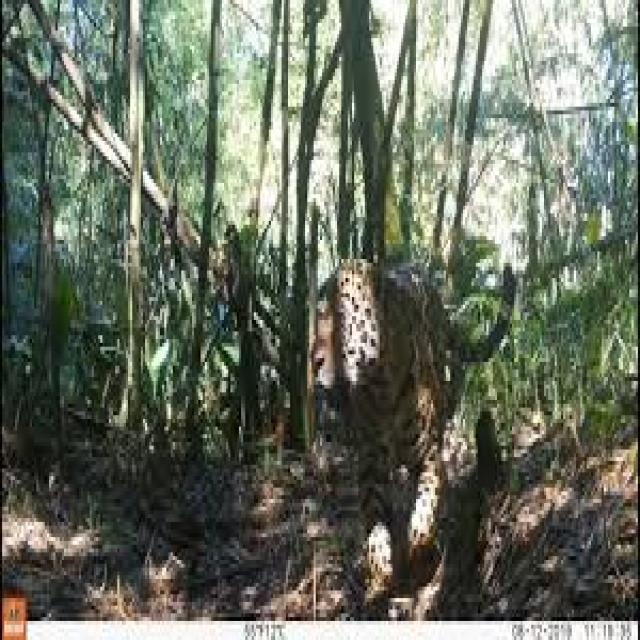Jaguar: (305, 236, 521, 556)
